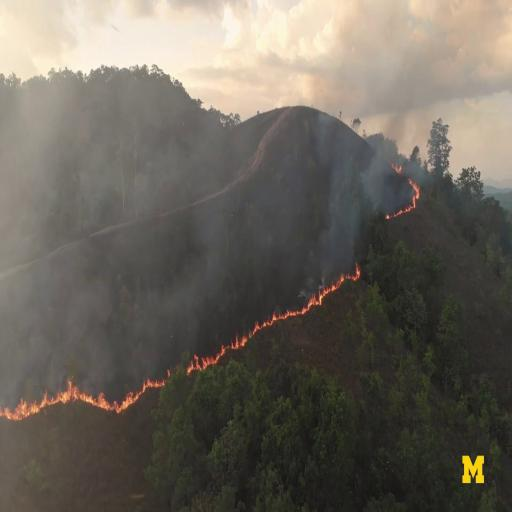fire: (1, 389, 129, 441), (172, 334, 249, 400), (251, 300, 318, 355), (316, 256, 372, 312), (396, 146, 432, 224), (126, 375, 168, 426)
smoke: (122, 197, 240, 323), (308, 99, 385, 243), (7, 292, 95, 377)
